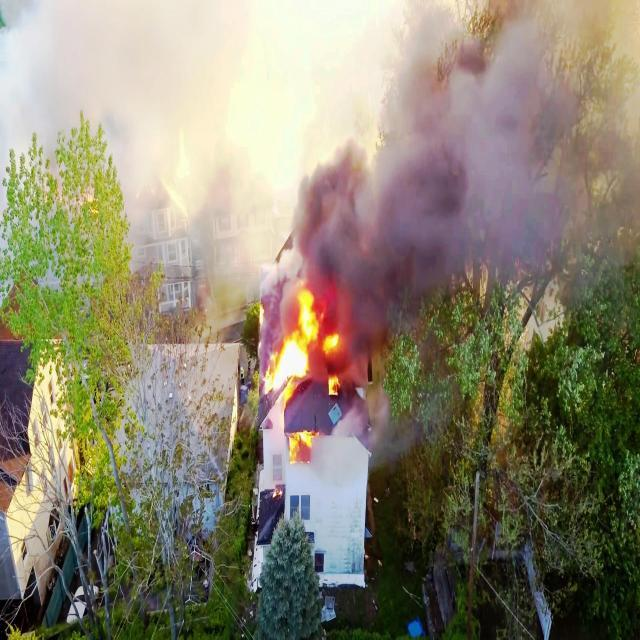Fire: (257, 295, 322, 392), (324, 296, 346, 412), (283, 422, 319, 466)
Smoke: (0, 6, 640, 168), (127, 170, 640, 292), (349, 296, 408, 462)
